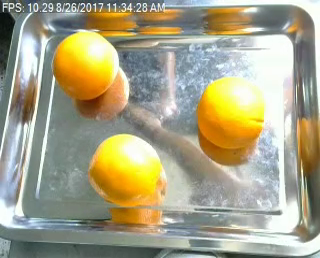Orange: (88, 134, 164, 205), (196, 77, 265, 148), (51, 30, 119, 100)
